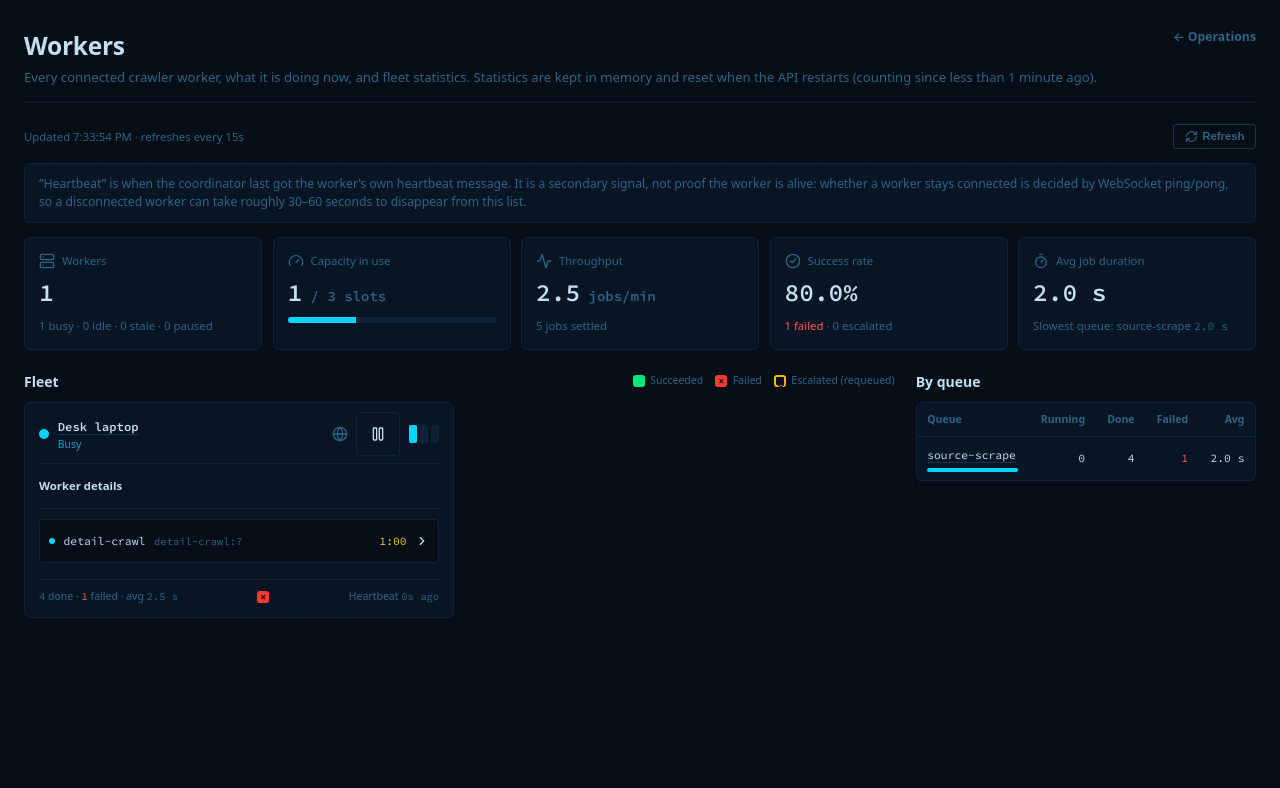
Test: WorkersClient › shows machine details, capabilities, and concurrency when worker details open
Check: the link "Desk laptop" is shown, box [58, 419, 139, 434]
Click the heading "Worker details". click: click(81, 486)
box: [39, 478, 122, 493]
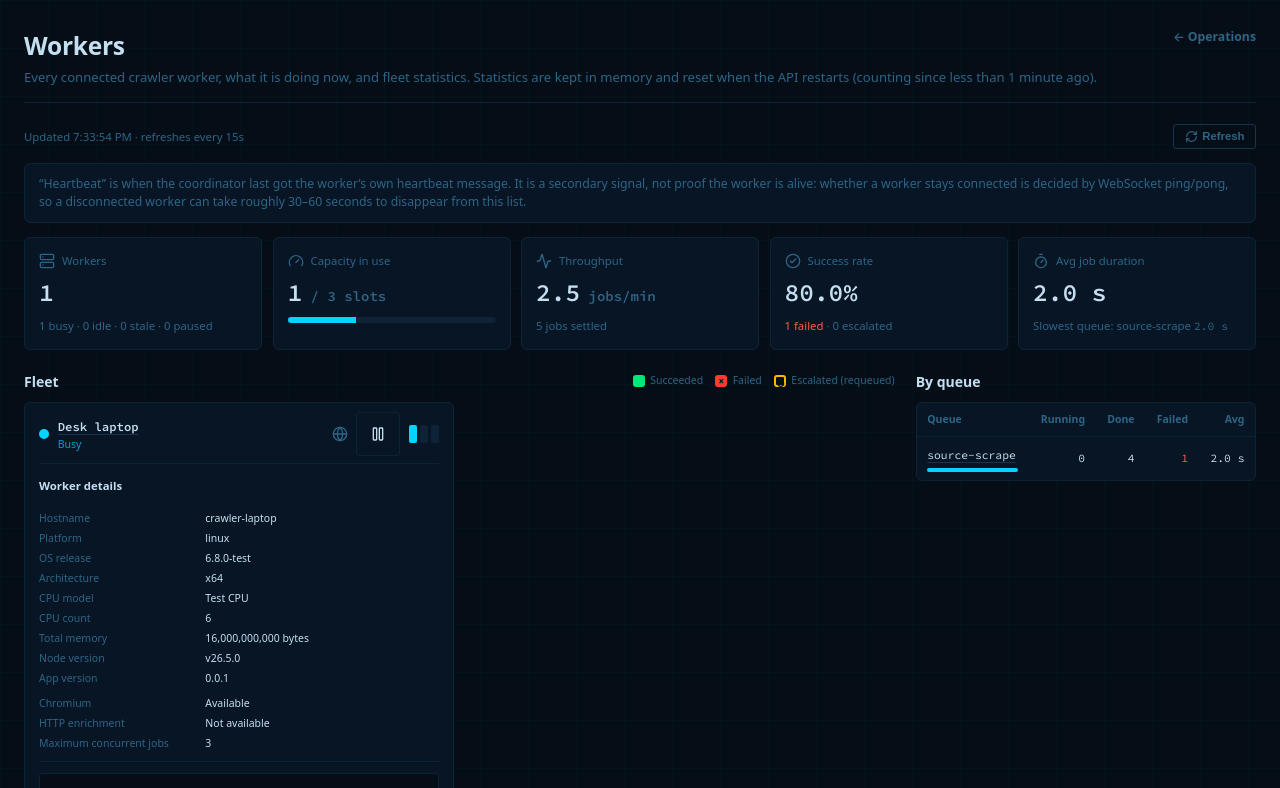
Check: the text "crawler-laptop" is shown, box [205, 511, 277, 525]
Check: the text "Test CPU" is shown, box [205, 591, 249, 605]
Check: the text "16,000,000,000 bytes" is shown, box [205, 631, 309, 645]
